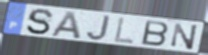A: (49, 10, 83, 40)
B: (141, 19, 171, 47)
J: (85, 14, 112, 42)
L: (112, 16, 136, 45)
N: (170, 22, 200, 52)
S: (25, 7, 56, 36)
